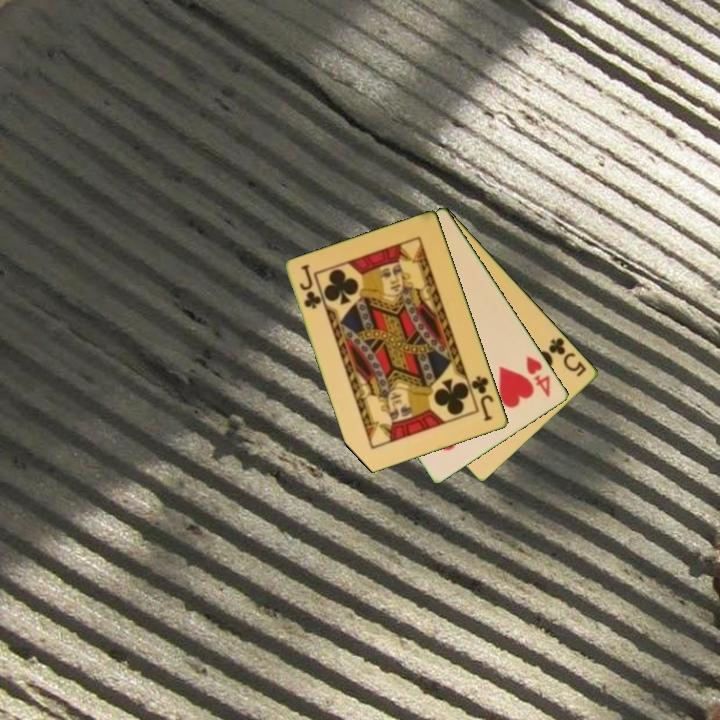4h: (523, 353, 554, 400)
5c: (545, 334, 590, 380)
Jc: (468, 372, 497, 424), (296, 261, 324, 312)
